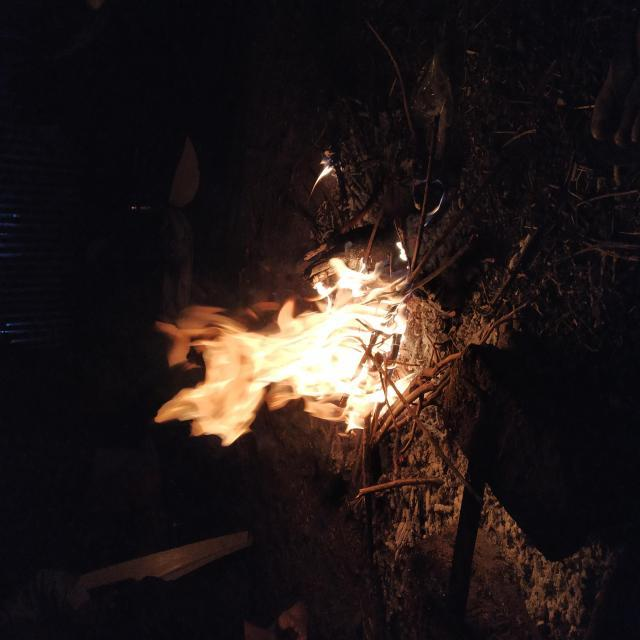Fire: (154, 248, 436, 452)
